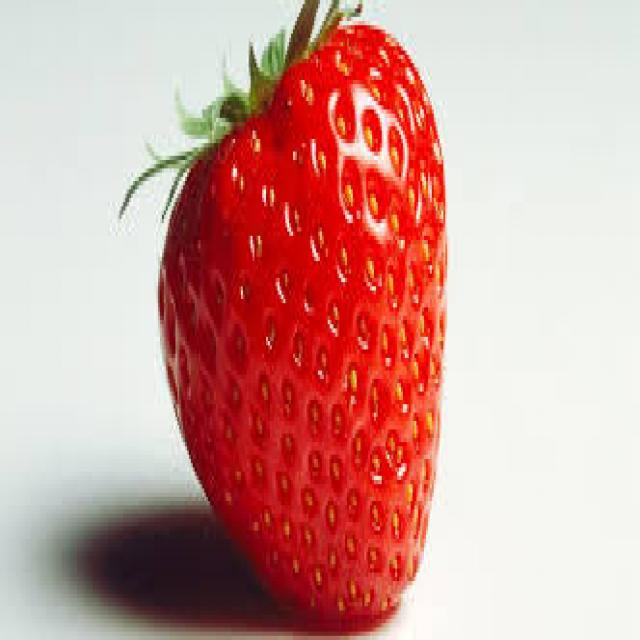strawberry: (154, 16, 452, 638)
